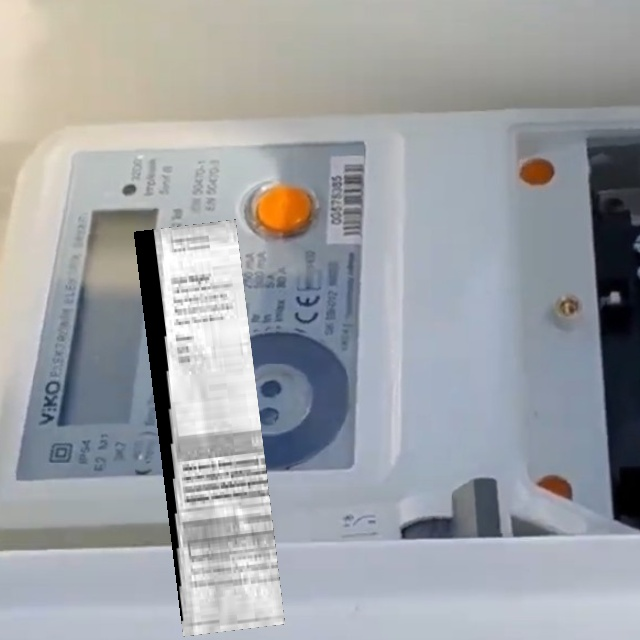electricity-bill: (133, 219, 284, 637)
